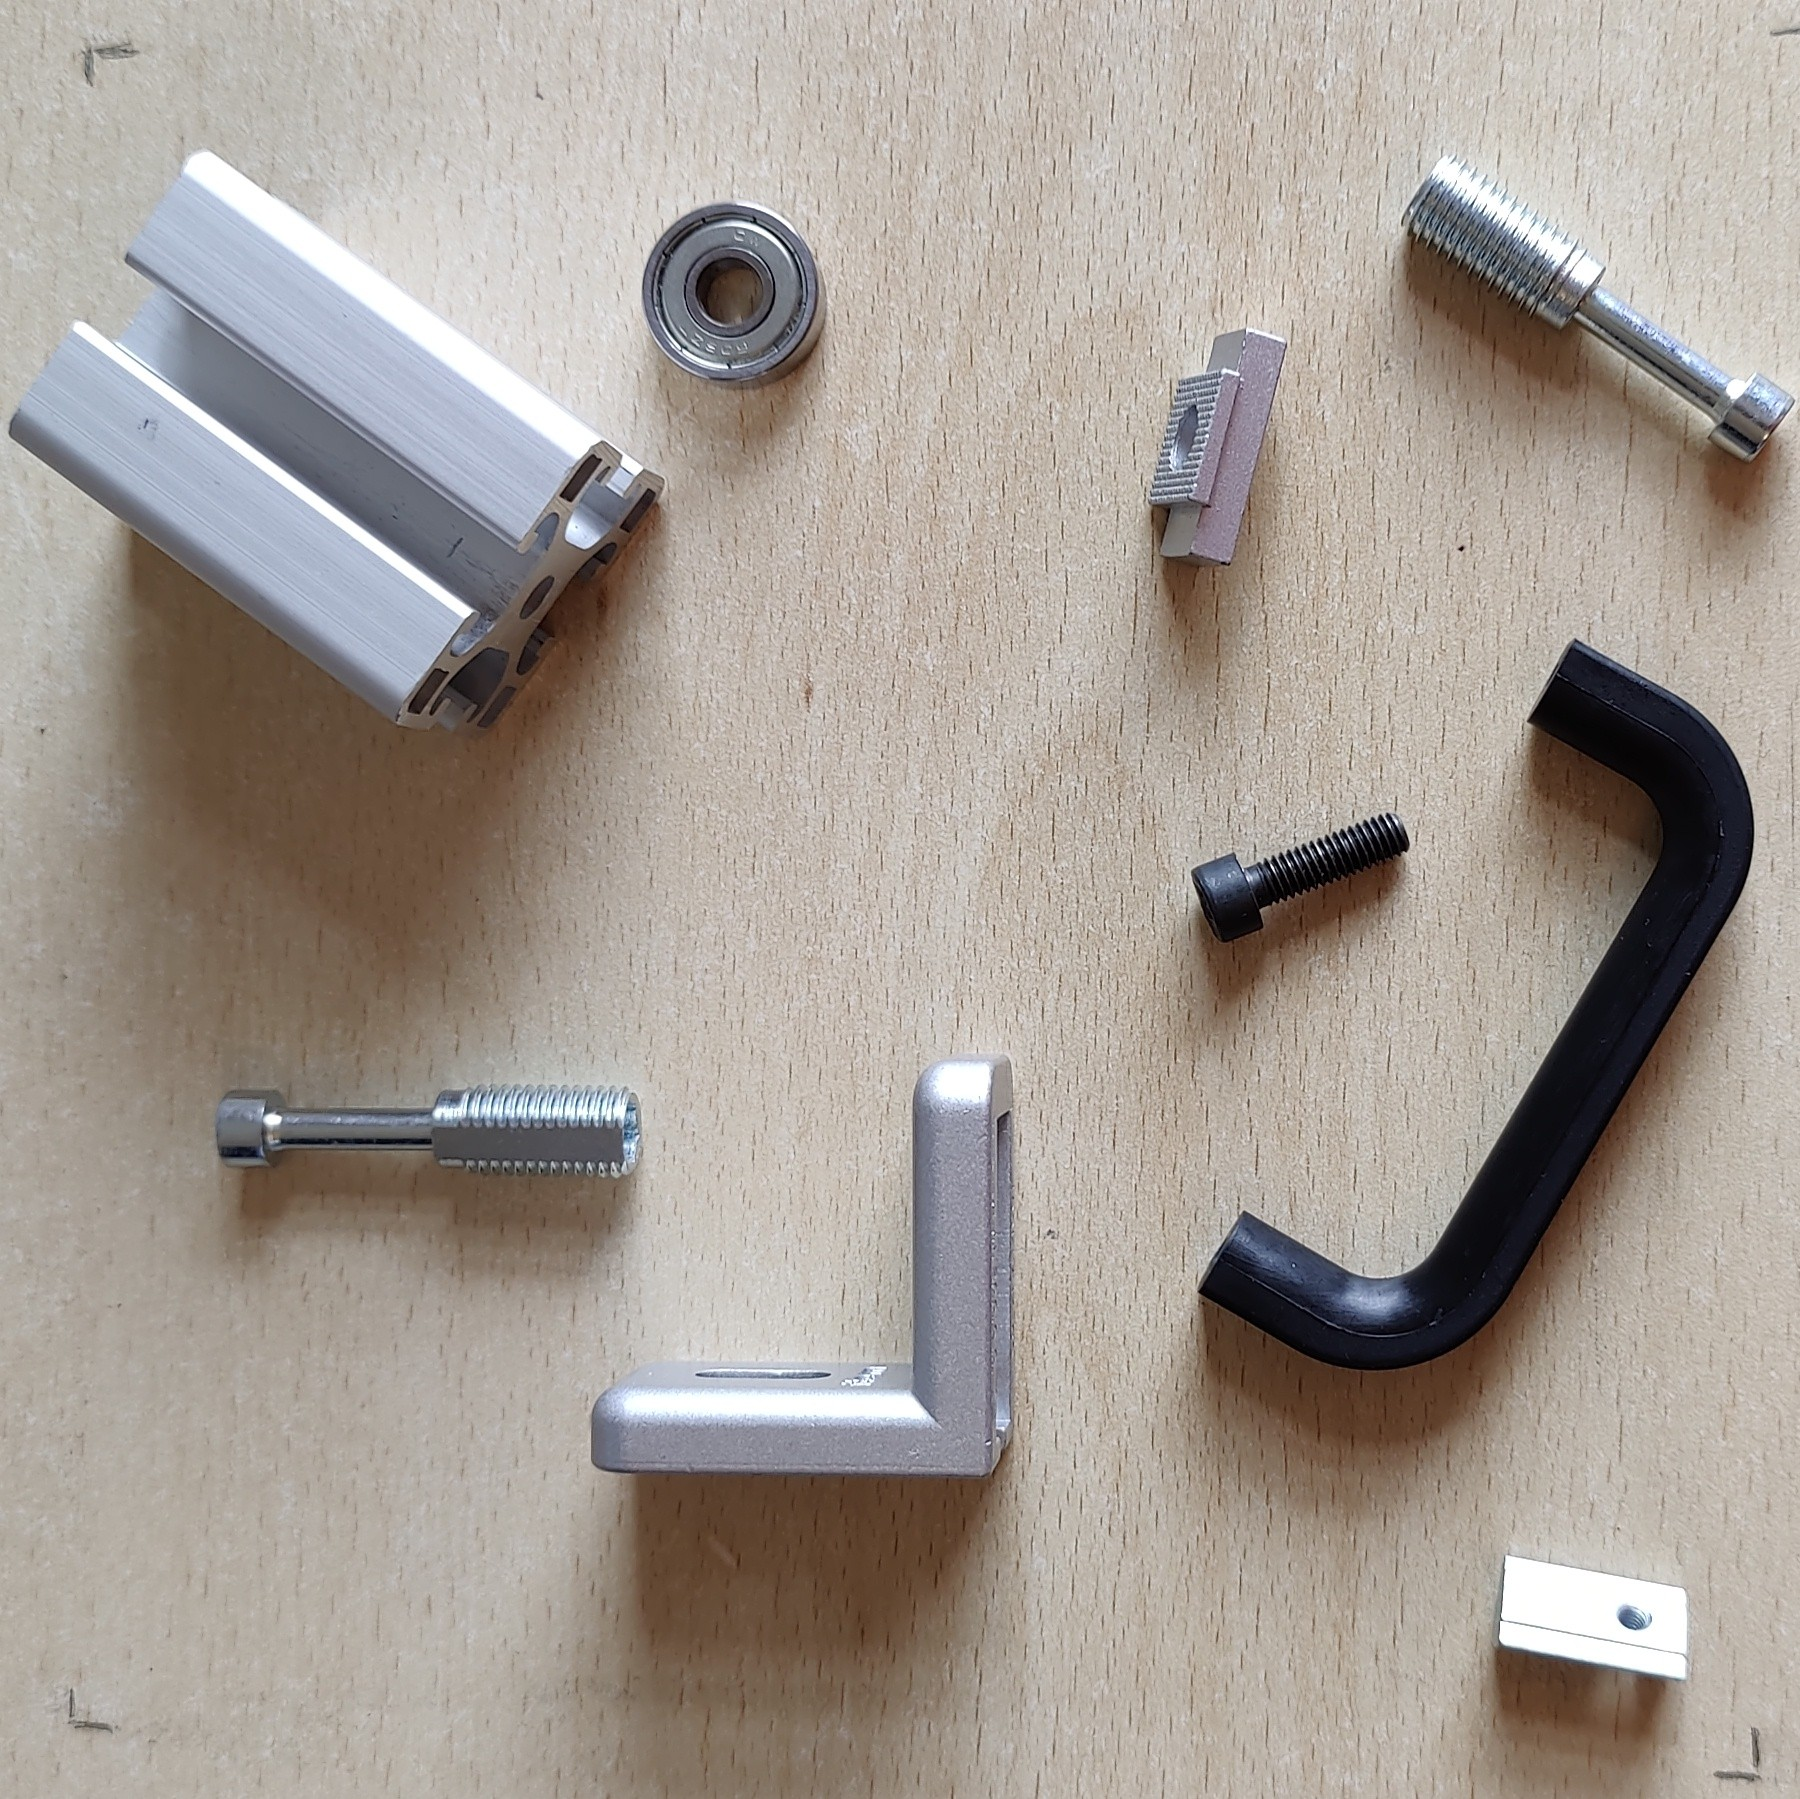Aluminium Extension: (5, 147, 667, 738)
Ball Bearing: (641, 198, 828, 395)
Multiwinkel: (586, 1051, 1023, 1483)
Pull Handle: (1196, 634, 1756, 1372)
Shoulder Socket Head Cap Screw: (1398, 148, 1798, 466), (214, 1077, 646, 1181)
Socket Head Cap Screw: (1187, 806, 1411, 946)
T Nut Square: (1145, 326, 1294, 572)
T Spring Nut: (1492, 1549, 1691, 1684)
